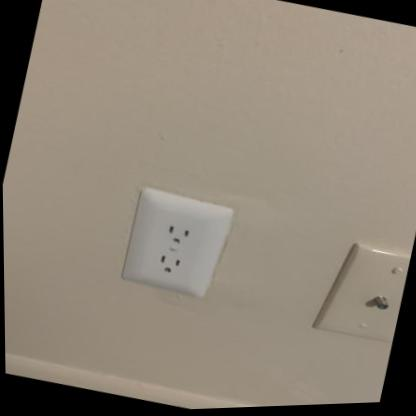OUTLET: (119, 183, 229, 301)
